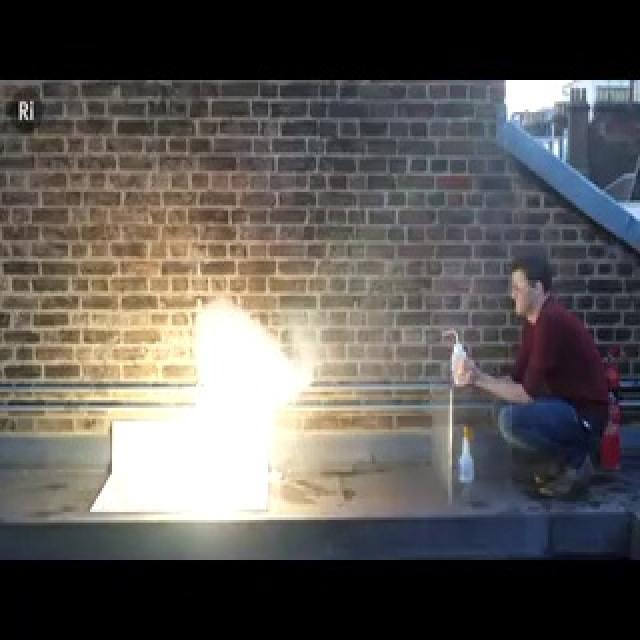fire: (149, 414, 253, 524)
